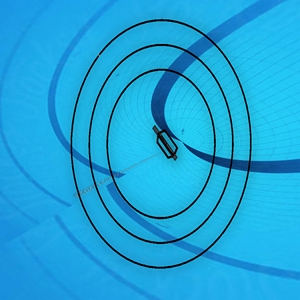circle: (72, 20, 252, 267)
submarine: (150, 123, 181, 161)
